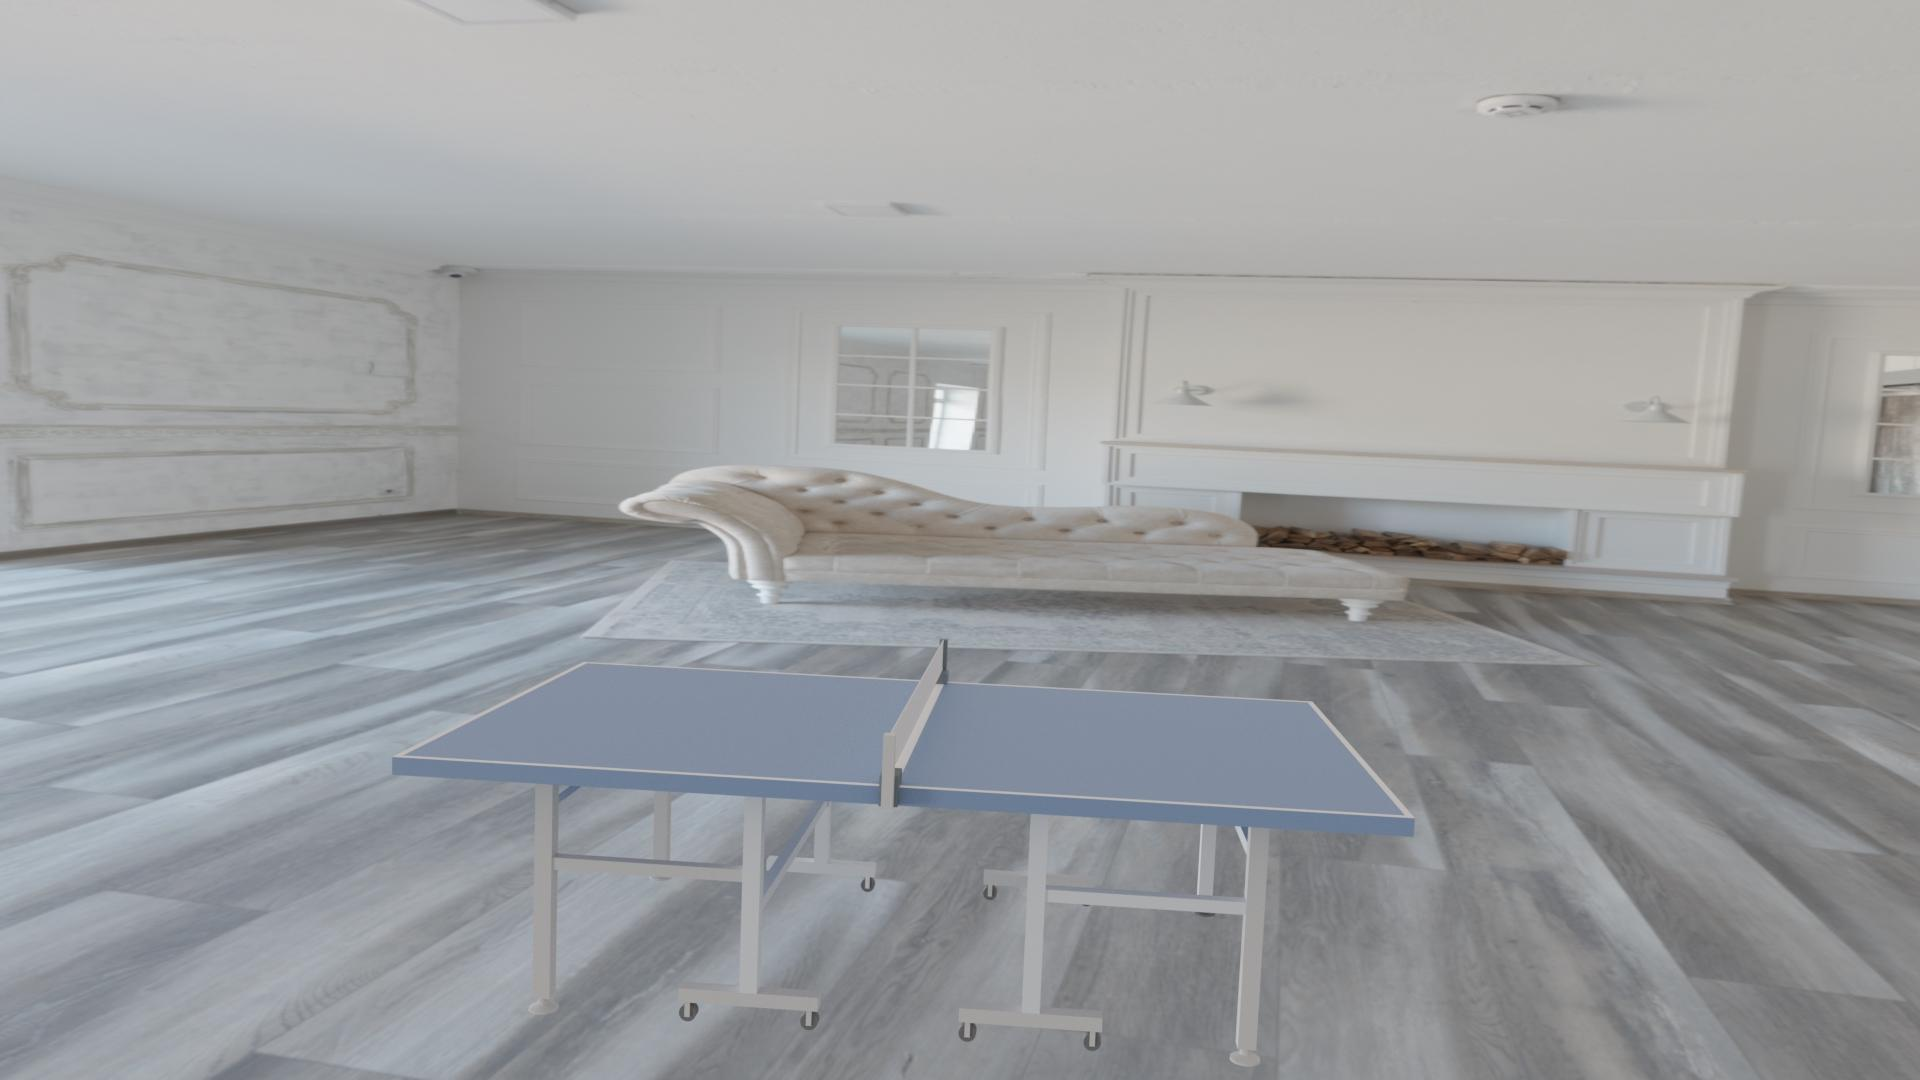table: (402, 663, 1406, 815)
